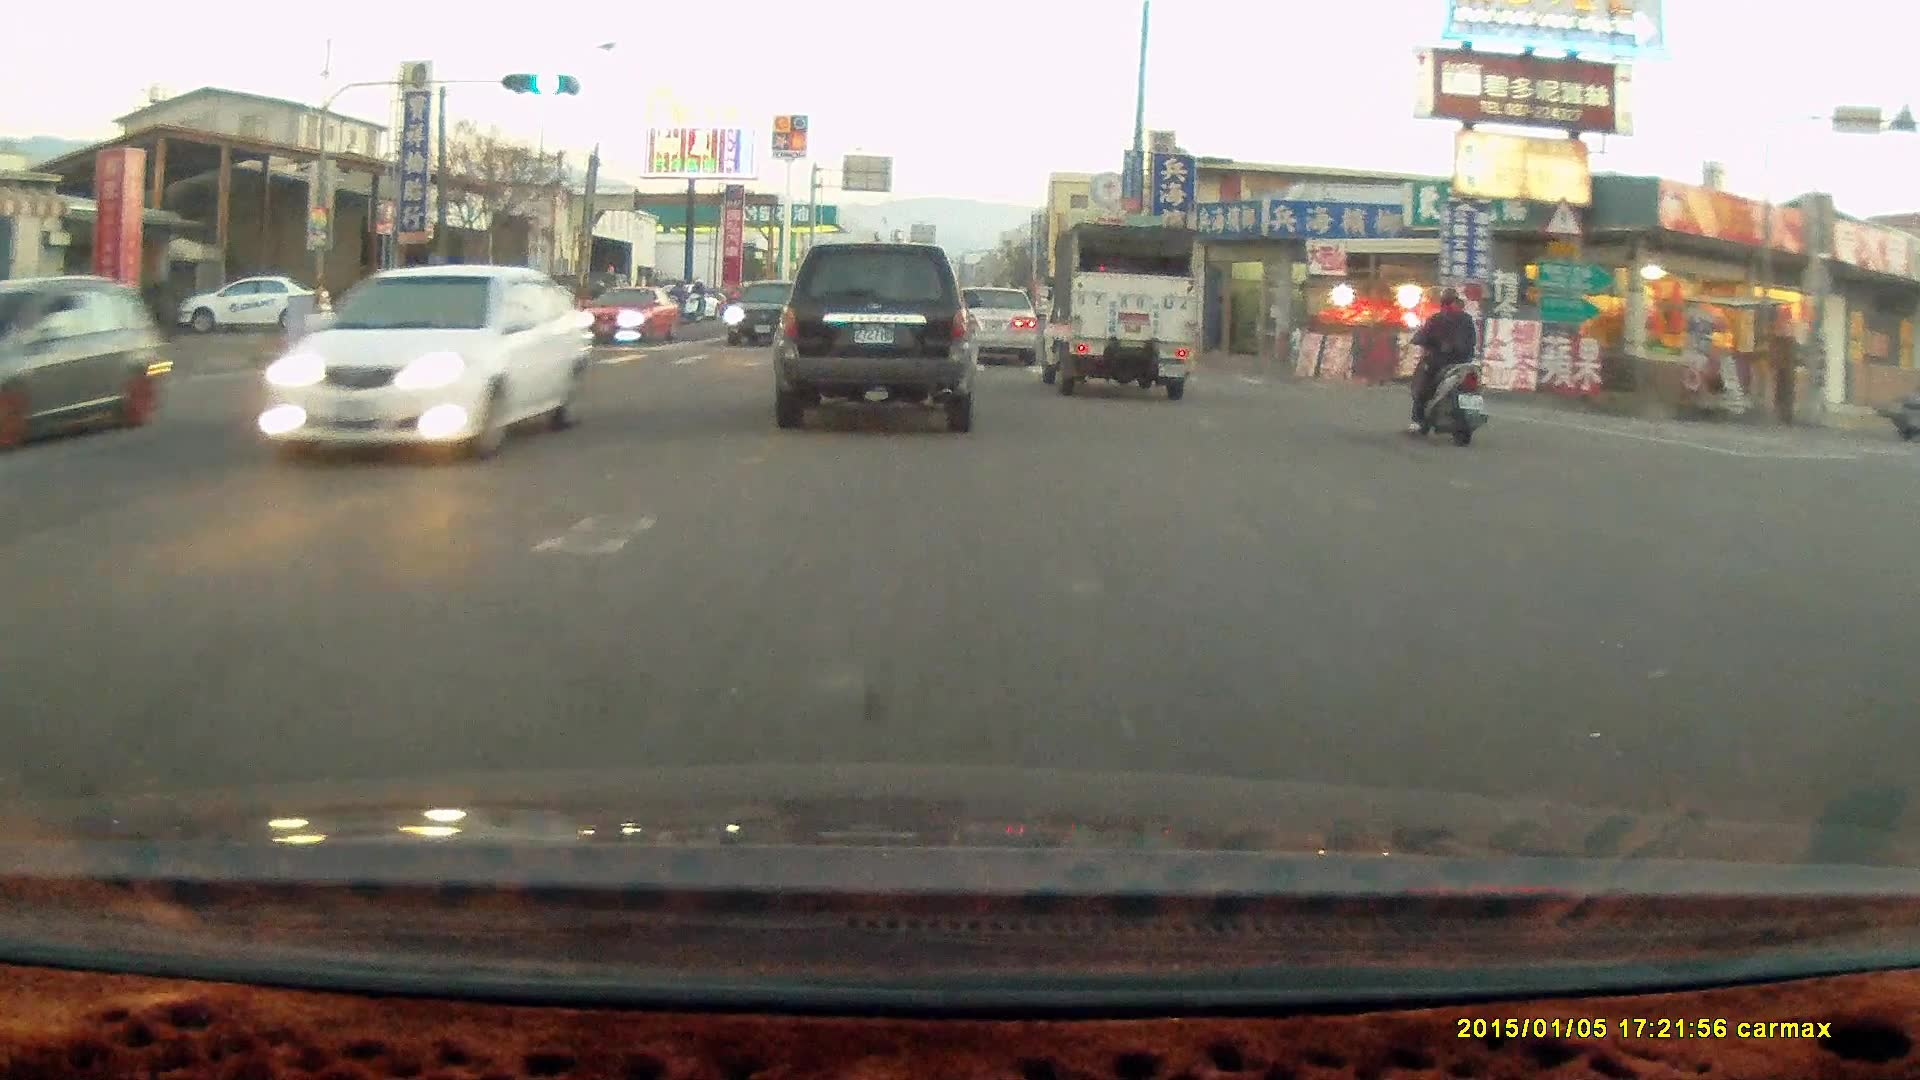rider: (1401, 285, 1488, 445), (679, 279, 707, 326)
vehicle: (260, 264, 597, 463), (770, 242, 981, 433), (1, 275, 173, 453), (1033, 221, 1200, 400), (385, 285, 557, 389), (942, 284, 1036, 367), (183, 279, 326, 332), (950, 287, 1041, 368), (724, 281, 825, 351), (586, 285, 681, 348)
